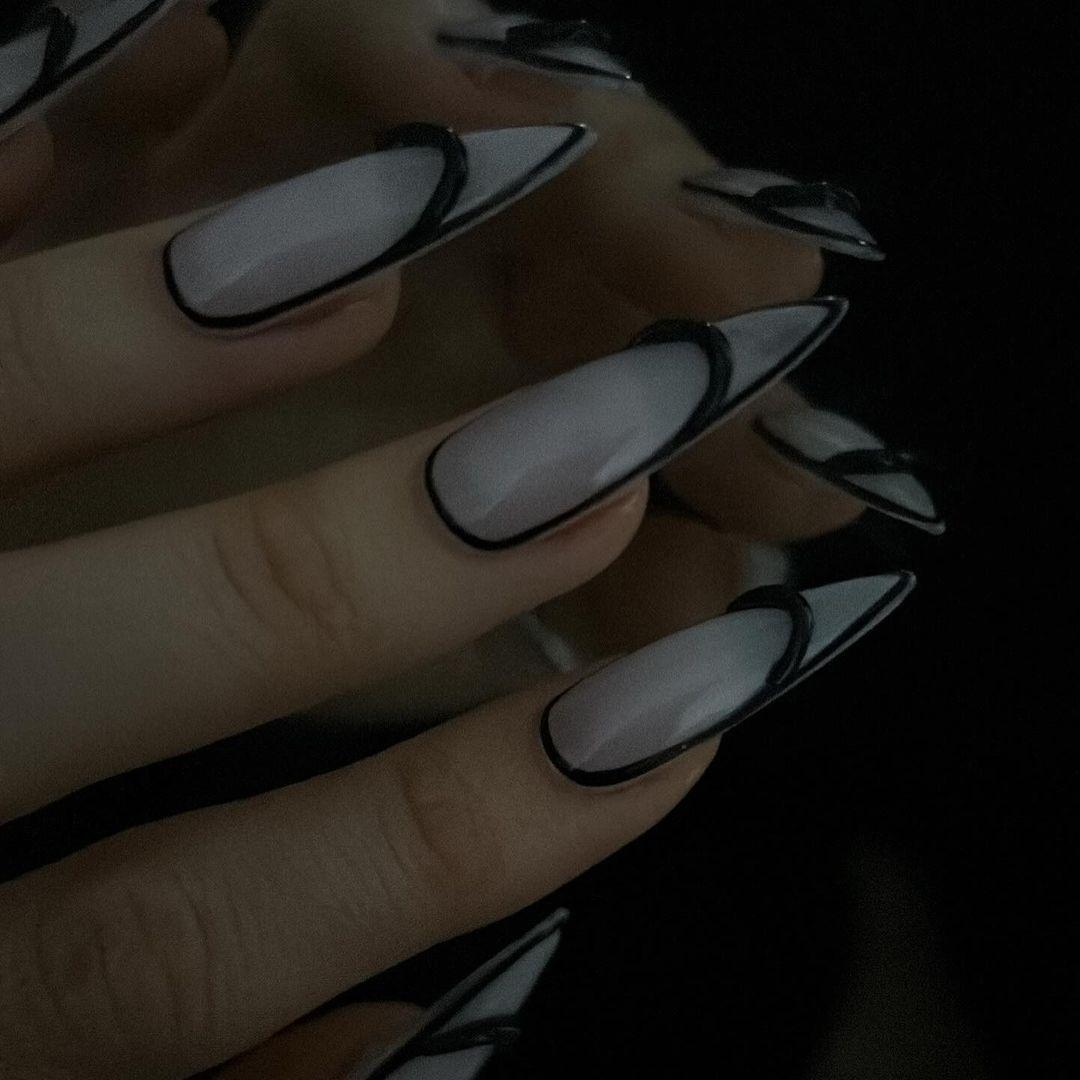nail: (422, 291, 849, 551), (160, 117, 597, 331), (537, 565, 916, 790)
